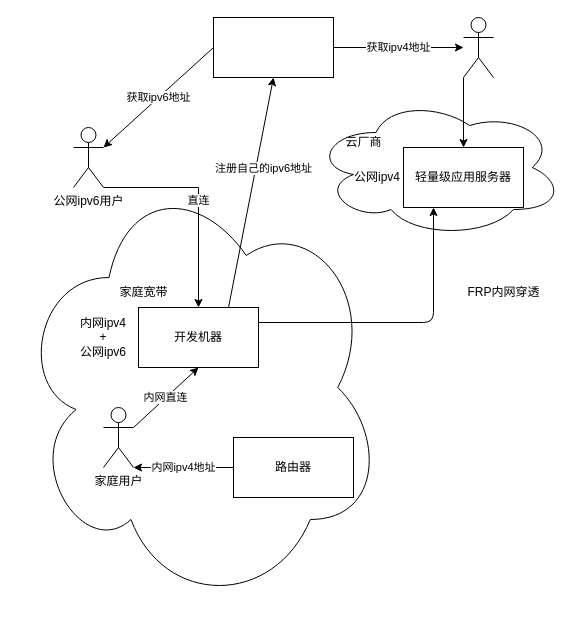
Image size: 581x625. Some labels were removed from this diagram. The centre of each missing label's shape, as x and y in pixels:
"公网dns" belongs at (x=273, y=47).
"公网ipv4用户" belongs at (x=478, y=47).
